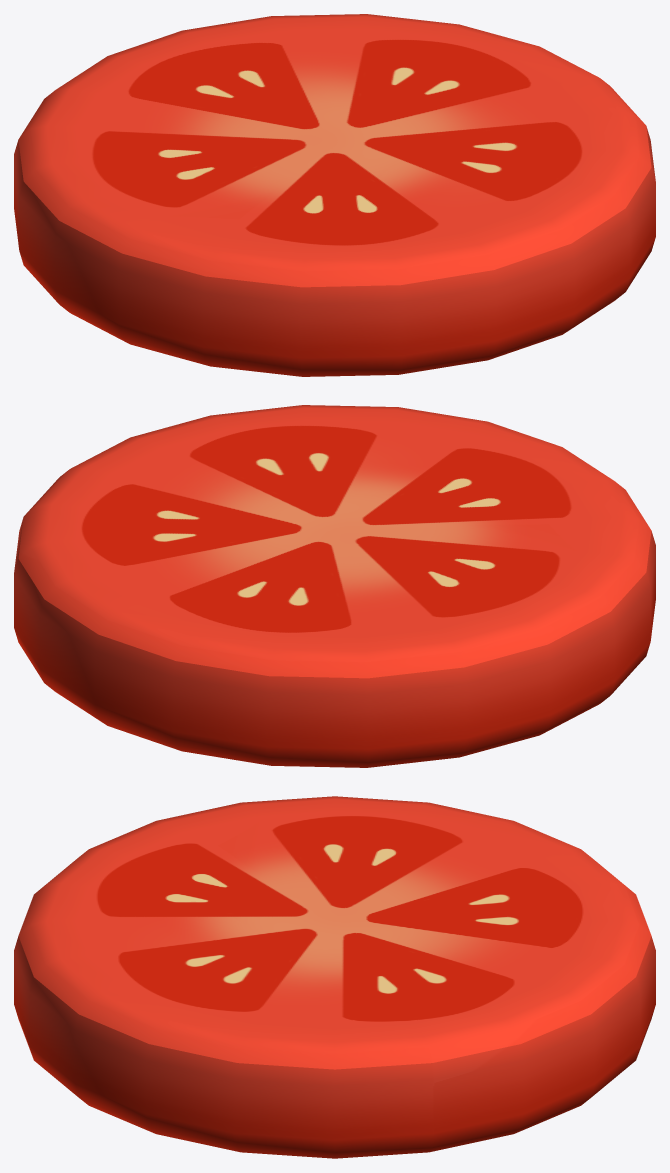
The model's file is MD_Tomato.fbx.
The picture shows the model from 3 angles, top to bottom: view 1: azimuth 30°, elevation 25°; view 2: azimuth 150°, elevation 25°; view 3: azimuth 270°, elevation 25°; orthographic projection.
Visible parts, largest first — view 1: Tomato; view 2: Tomato; view 3: Tomato.
Boxes of the visible parts, x1=… form: Tomato: x1=14, y1=14, x2=655, y2=376; Tomato: x1=14, y1=405, x2=655, y2=767; Tomato: x1=14, y1=796, x2=655, y2=1158.
Size of the model in its own units: 2 by 0.3887 by 2.
